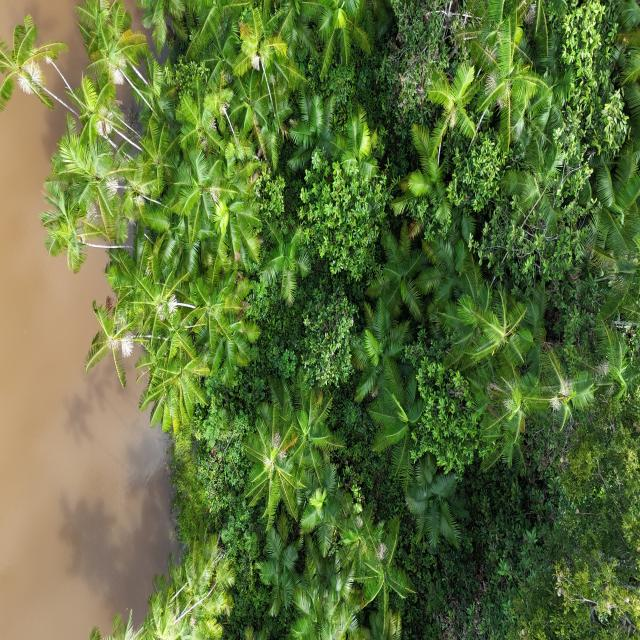vegetation: (2, 1, 638, 638)
